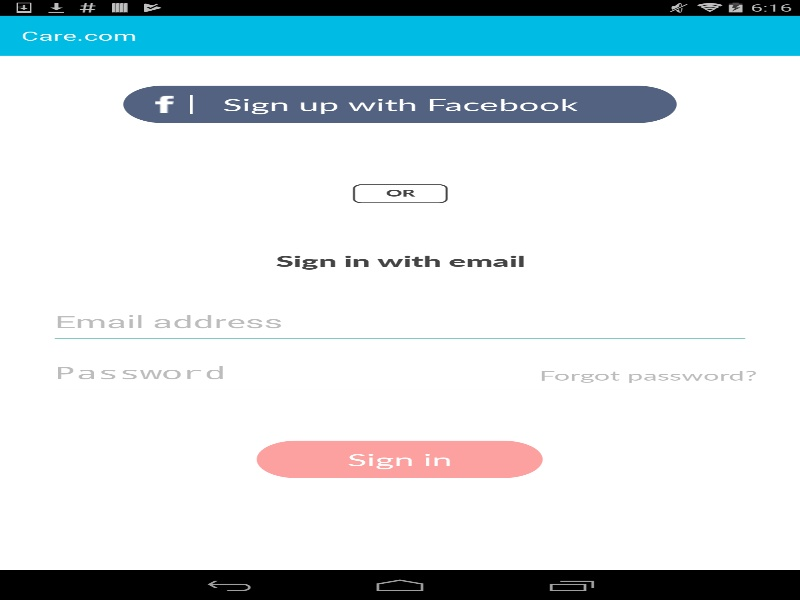Input: (54, 291, 745, 342), (54, 342, 745, 393)
